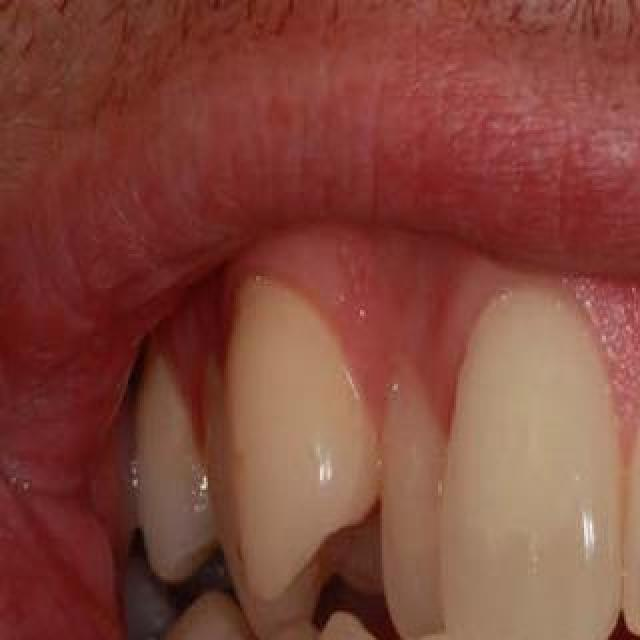maligned: (200, 272, 368, 558), (178, 370, 324, 638), (356, 362, 476, 628), (210, 596, 326, 640), (362, 626, 506, 640)
